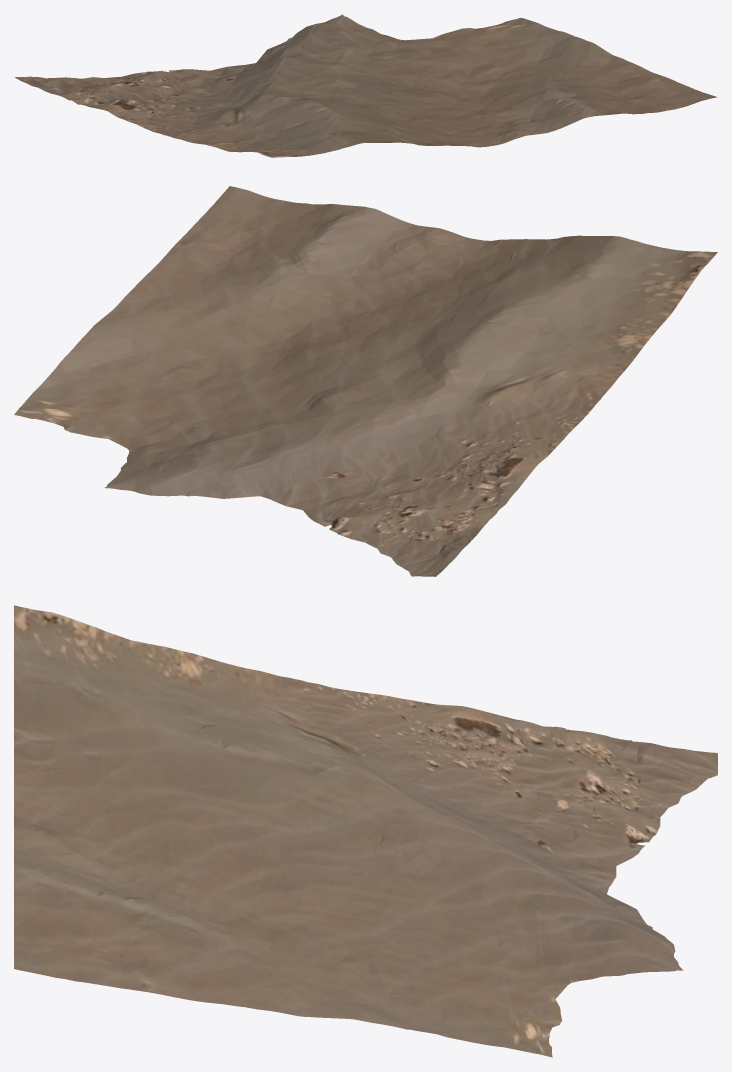
3 renders of one model, top to bottom at view 1: azimuth 30°, elevation 25°; view 2: azimuth 150°, elevation 25°; view 3: azimuth 270°, elevation 25°, orthographic. The views are drawn at different scales.
Size of the model in its own units: 2.09 by 0.5069 by 2.09.
2 materials, 2 textured.
